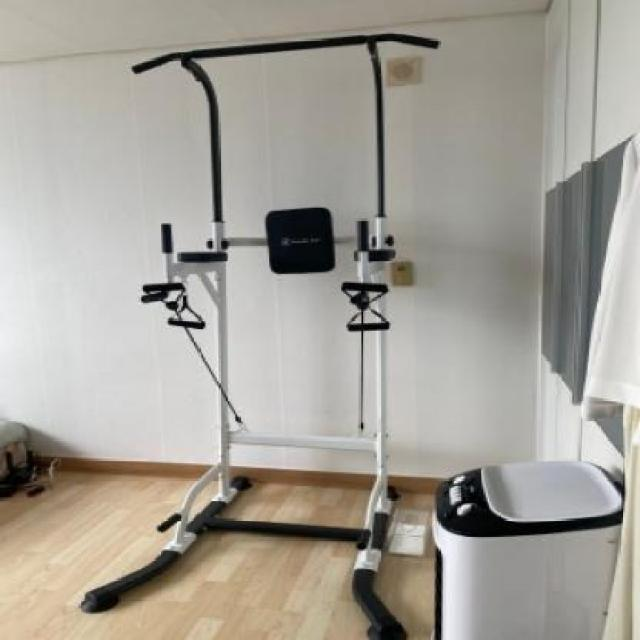chinning dipping: (89, 31, 442, 635)
